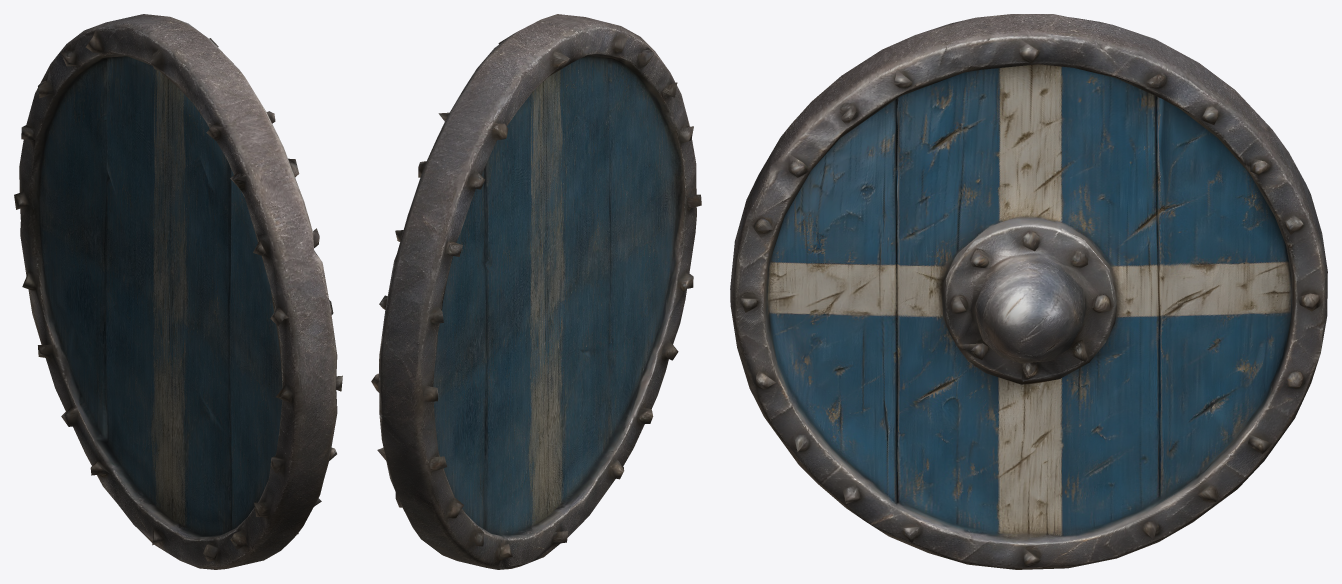
Rendered from escudo-heroico.glb.
3 views of the same model, side by side, from view 1: azimuth 30°, elevation 25°; view 2: azimuth 150°, elevation 25°; view 3: azimuth 270°, elevation 25° (orthographic). The views are drawn at different scales.
Parts seen in each view (by area): view 1: tripo_node_7da51433-d9c8-4aea-83cb-a3665d6c2526; view 2: tripo_node_7da51433-d9c8-4aea-83cb-a3665d6c2526; view 3: tripo_node_7da51433-d9c8-4aea-83cb-a3665d6c2526.
Boxes of the visible parts, box(x1,y1,x2,y2) form: tripo_node_7da51433-d9c8-4aea-83cb-a3665d6c2526: box(14, 14, 342, 569); tripo_node_7da51433-d9c8-4aea-83cb-a3665d6c2526: box(371, 14, 701, 569); tripo_node_7da51433-d9c8-4aea-83cb-a3665d6c2526: box(730, 14, 1327, 569).
Size of the model in its own units: 0.1342 by 0.6 by 0.6012.
1 material, 1 textured.
